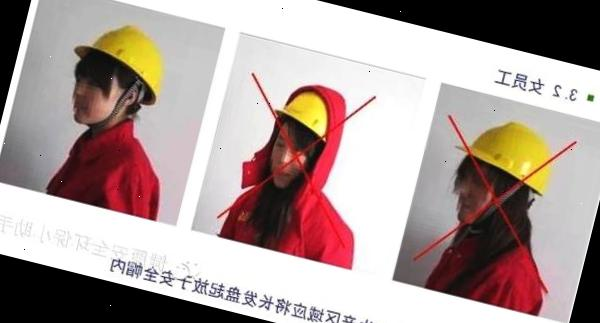helmet: (446, 107, 566, 200), (65, 11, 177, 101)
